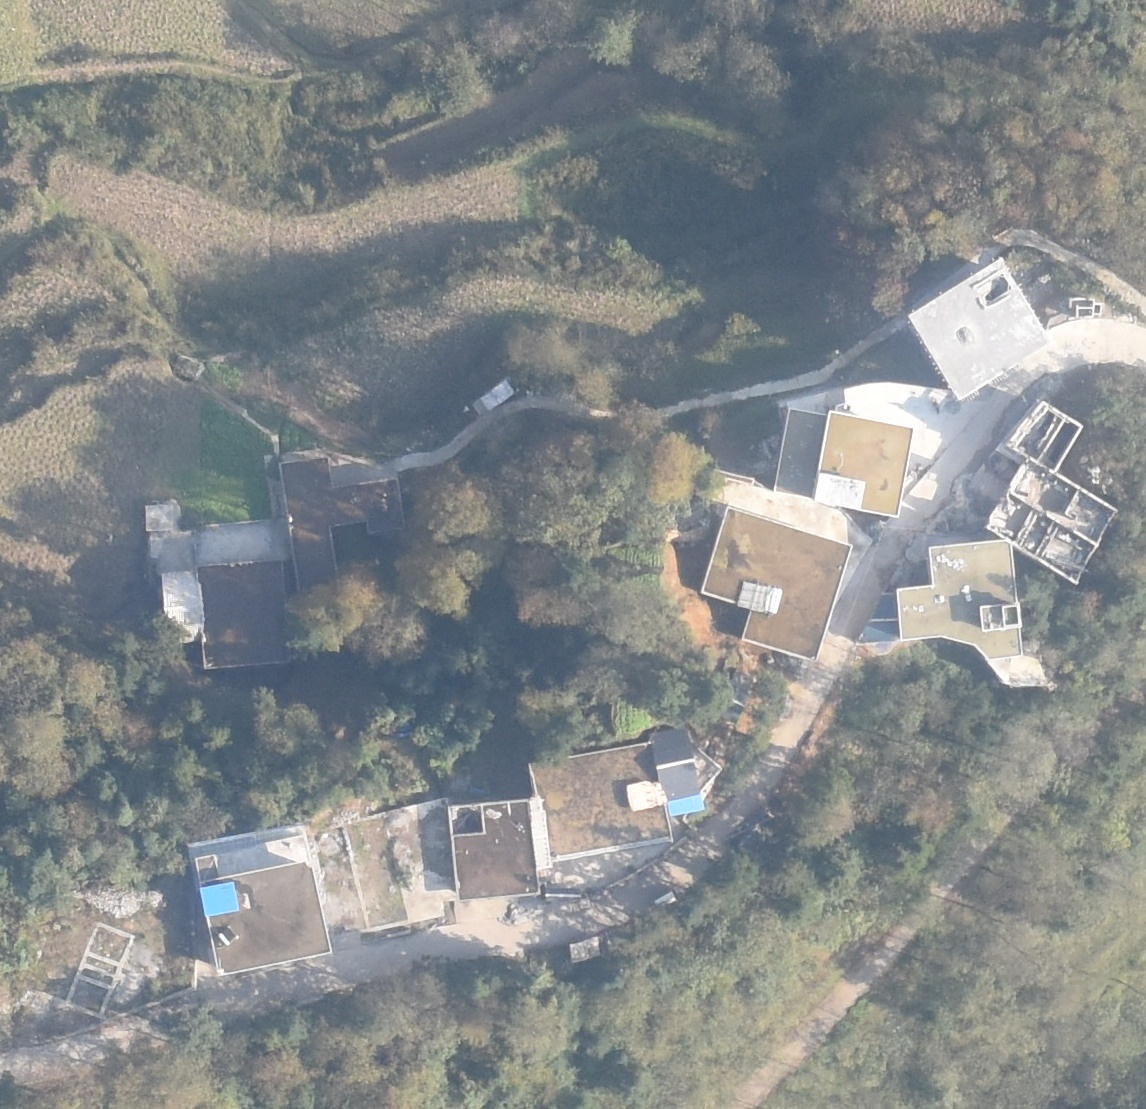building: (700, 505, 854, 665), (907, 259, 1054, 400), (193, 834, 334, 978), (276, 457, 410, 591), (526, 742, 675, 861), (894, 541, 1027, 661), (987, 460, 1116, 582), (772, 408, 910, 516), (195, 561, 294, 669), (445, 799, 543, 900), (151, 519, 294, 569), (1007, 400, 1089, 474), (650, 726, 703, 801), (160, 569, 204, 642), (144, 500, 183, 535)
